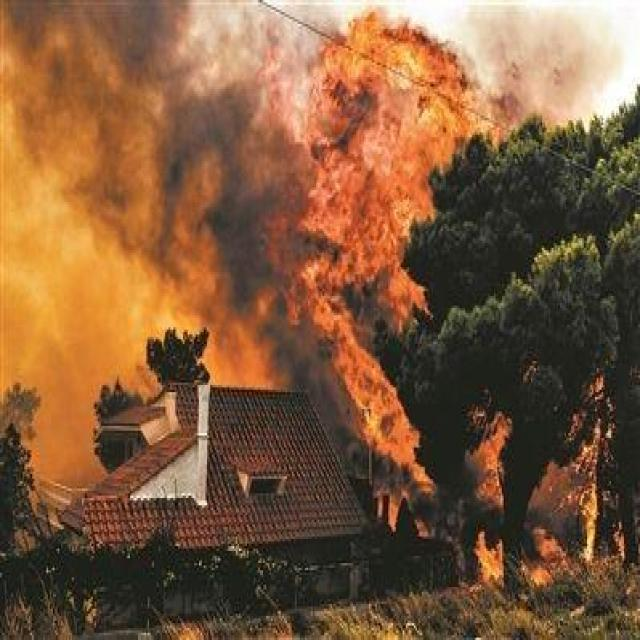fire: (287, 12, 606, 590)
smoke: (34, 24, 280, 328)
